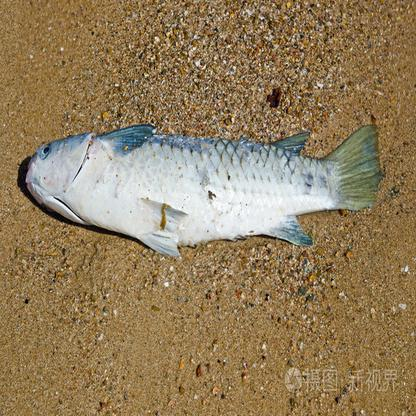deceased fish: (18, 113, 381, 260)
